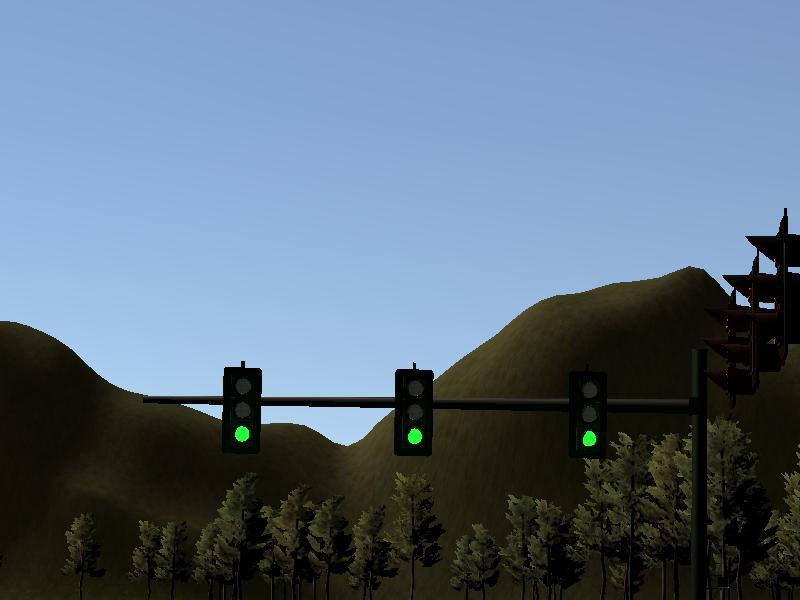Green: (224, 367, 260, 453), (395, 370, 431, 453), (575, 371, 605, 458)
